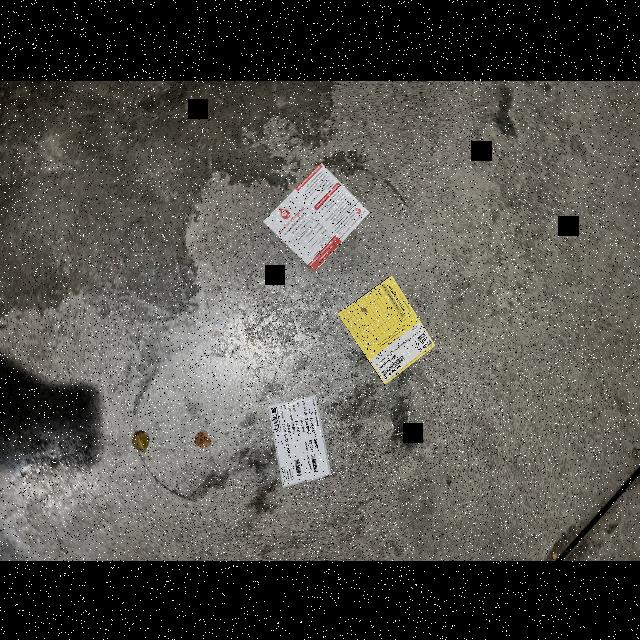scrap_paper: (332, 271, 443, 385), (260, 165, 378, 272), (260, 390, 340, 488)
